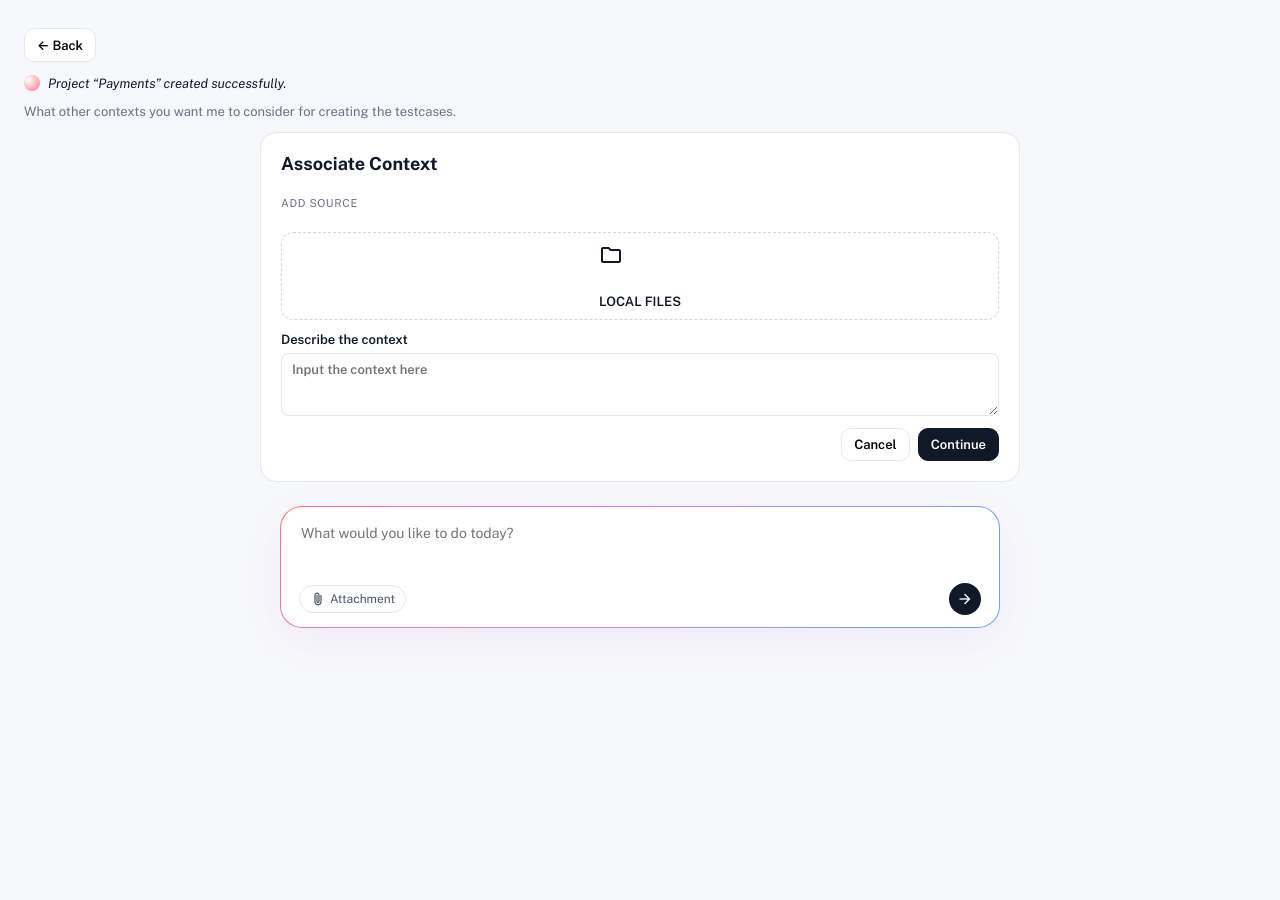
it: ContextPage › shows an error when continuing with no file or note
The width and height of the screenshot is (1280, 900).
Click the button "Continue": (958, 444) x1=918 y1=428 x2=999 y2=461
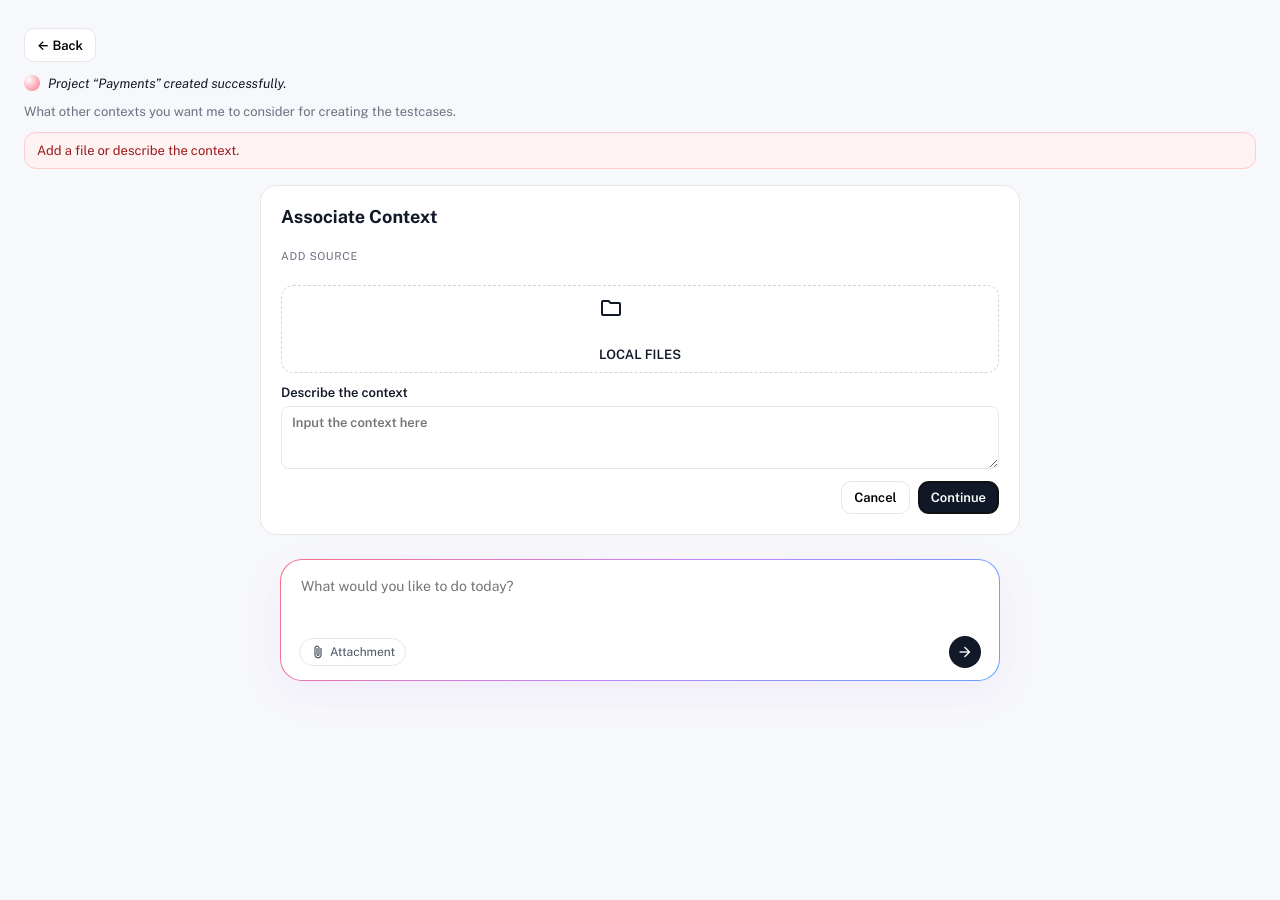
Result: the text "Add a file or describe the context." is shown at x1=24 y1=132 x2=1256 y2=169
